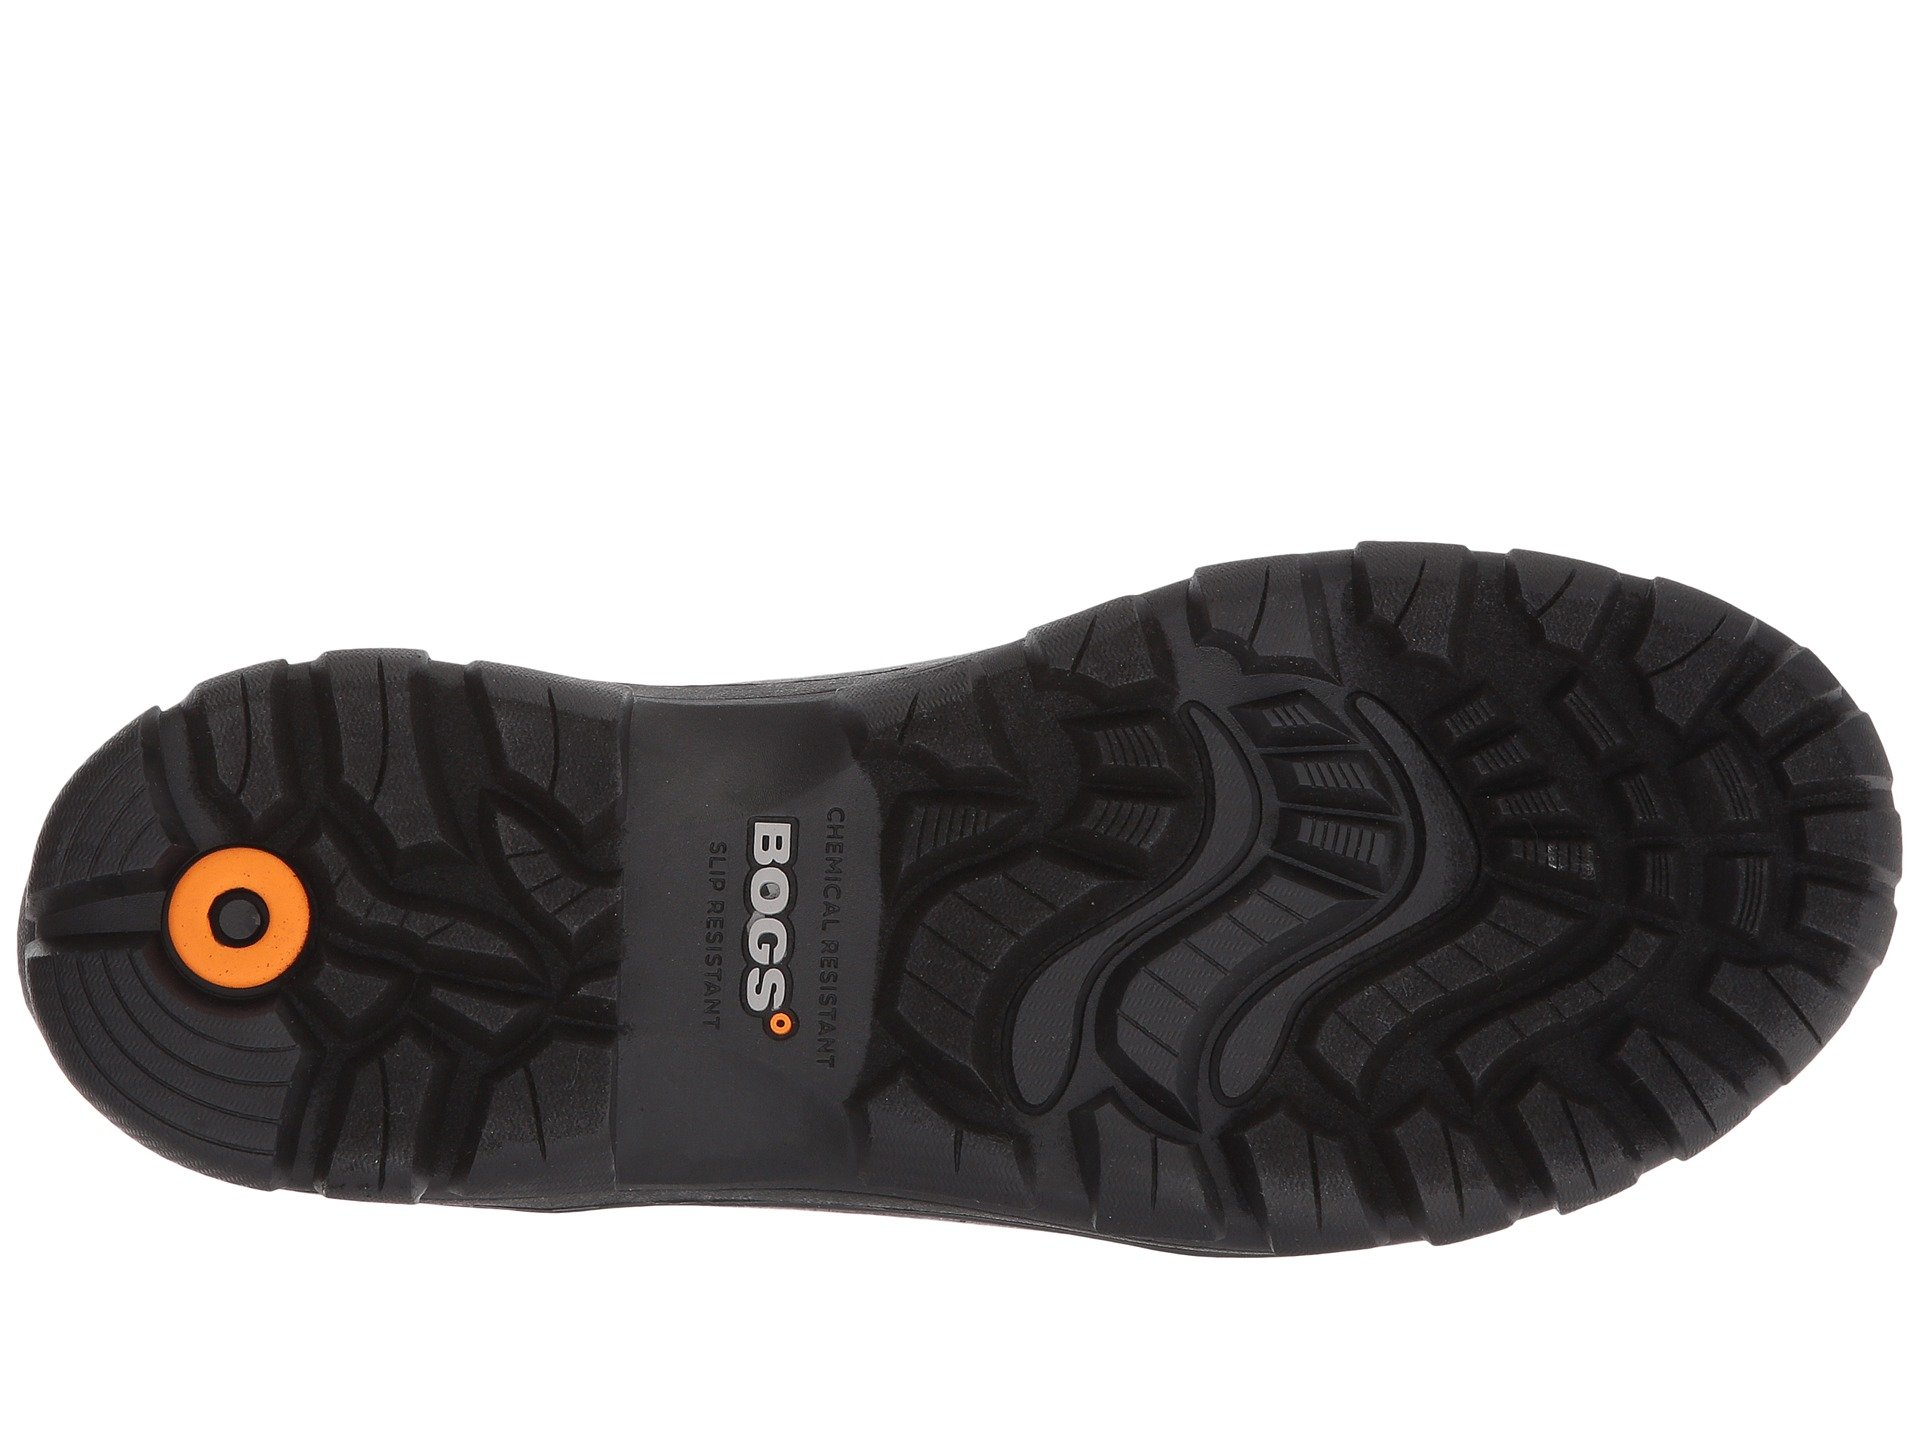circle: (608, 758, 909, 1128), (115, 794, 401, 1035)
text: (608, 758, 909, 1128)
